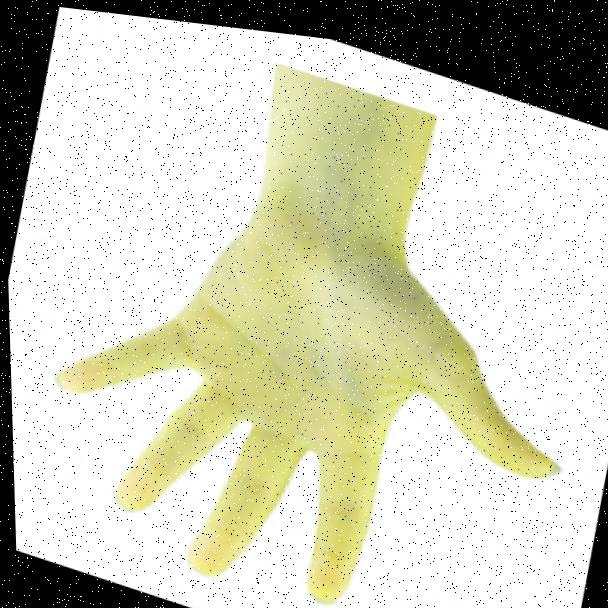five: (7, 108, 608, 608)
